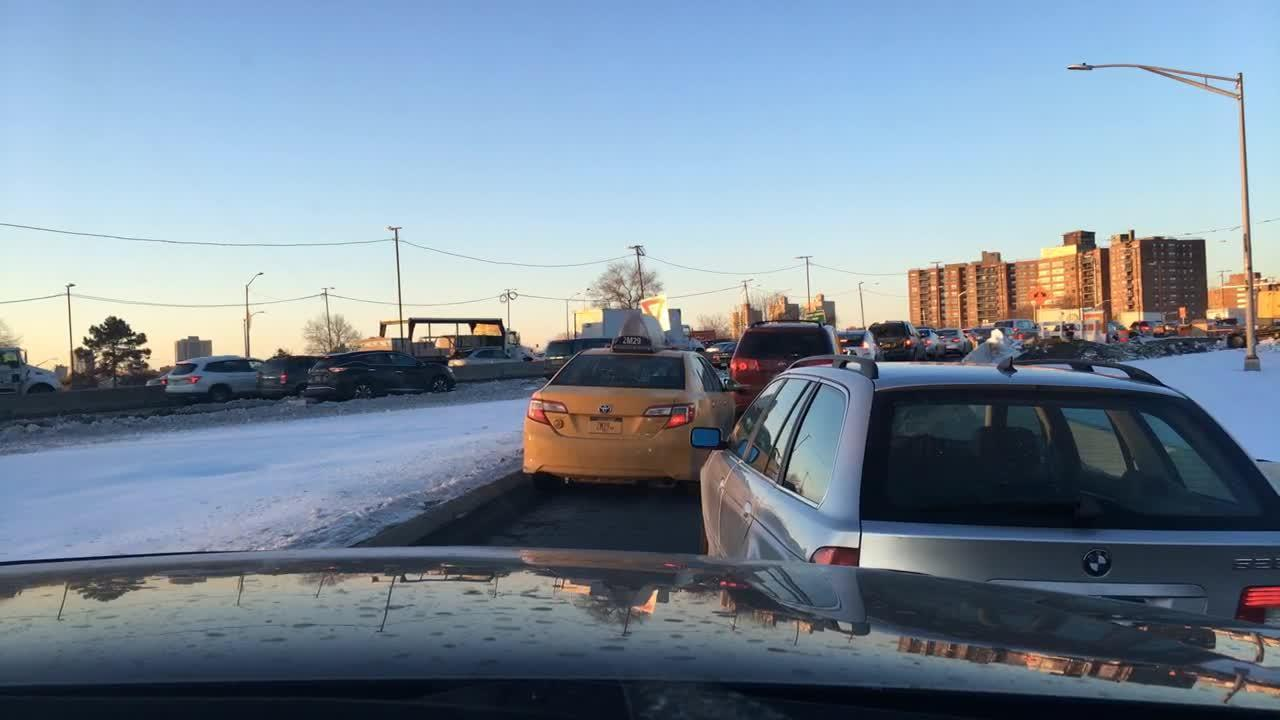bmw: (1058, 541, 1138, 594)
